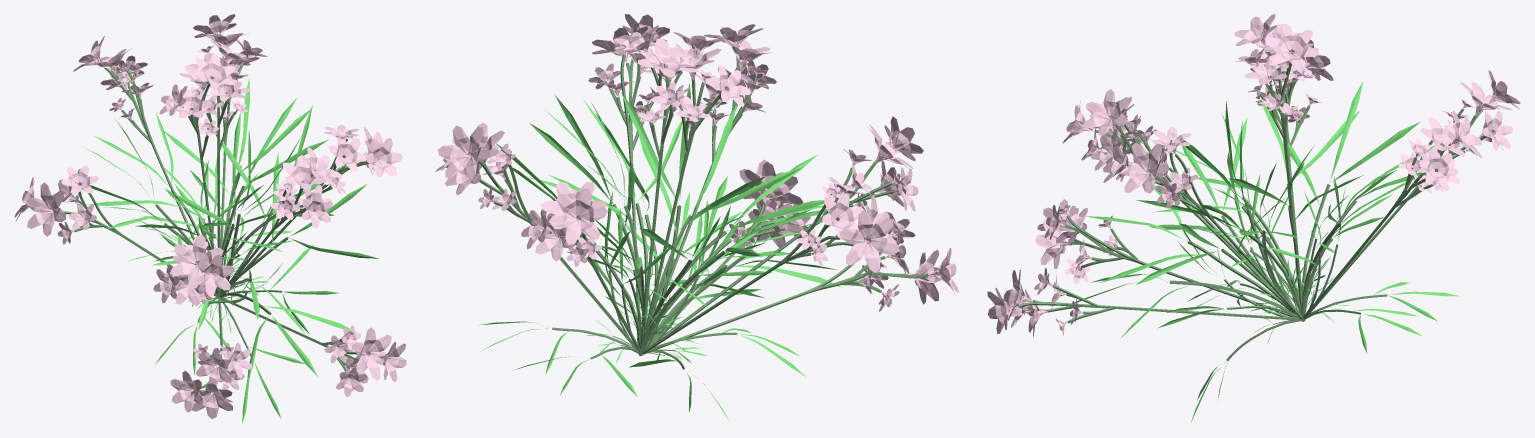
The model's file is Flor.fbx.
3 views of the same model, side by side, from view 1: azimuth 30°, elevation 25°; view 2: azimuth 150°, elevation 25°; view 3: azimuth 270°, elevation 25° (orthographic). The views are drawn at different scales.
Visible parts, largest first — view 1: Flor; view 2: Flor; view 3: Flor.
Boxes of the visible parts, x1,y1,x2,y2 form: Flor: [14, 14, 406, 423]; Flor: [435, 14, 958, 421]; Flor: [987, 14, 1520, 422].
Bounding box in the file's own units: 78.15 × 79.68 × 99.2.
